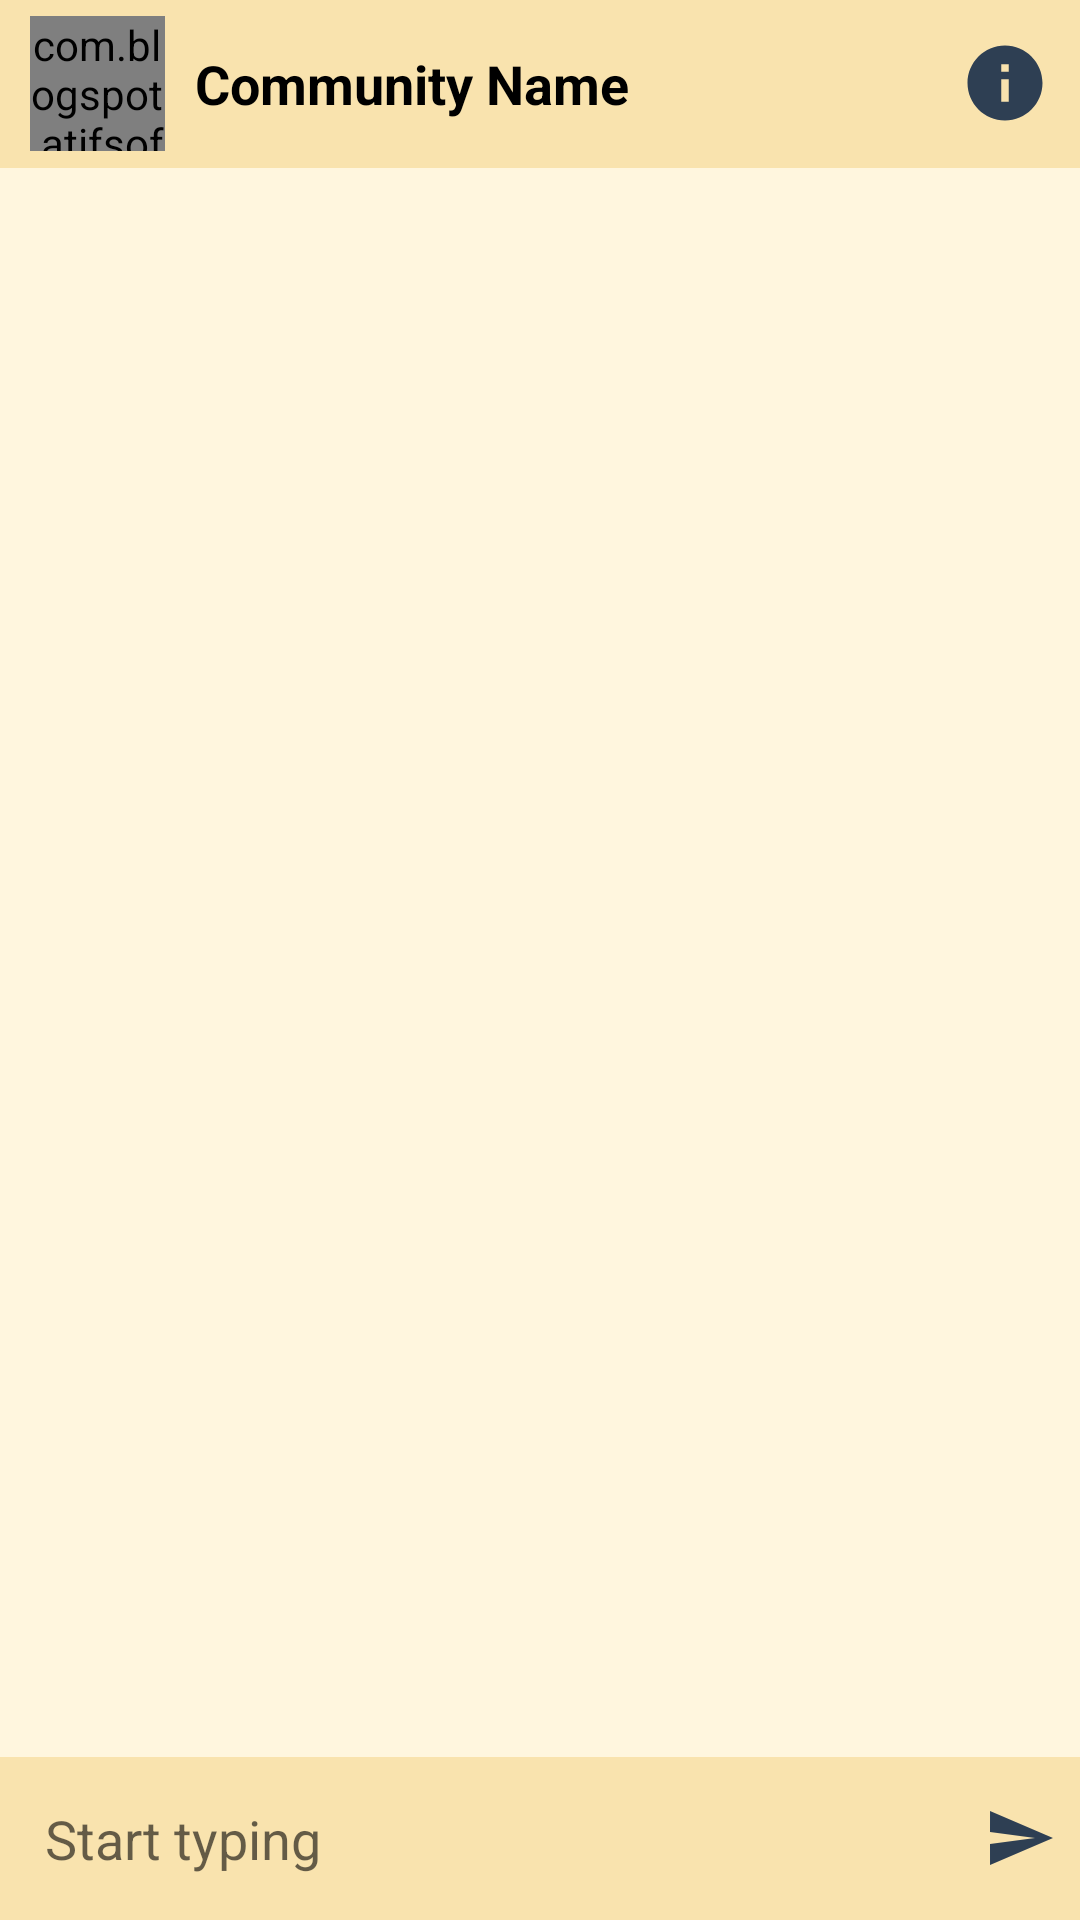

Named icons in this screenshot (1080 x 1920) and their centers, [x,y]:
info: [1005,83]
send: [1021,1838]
